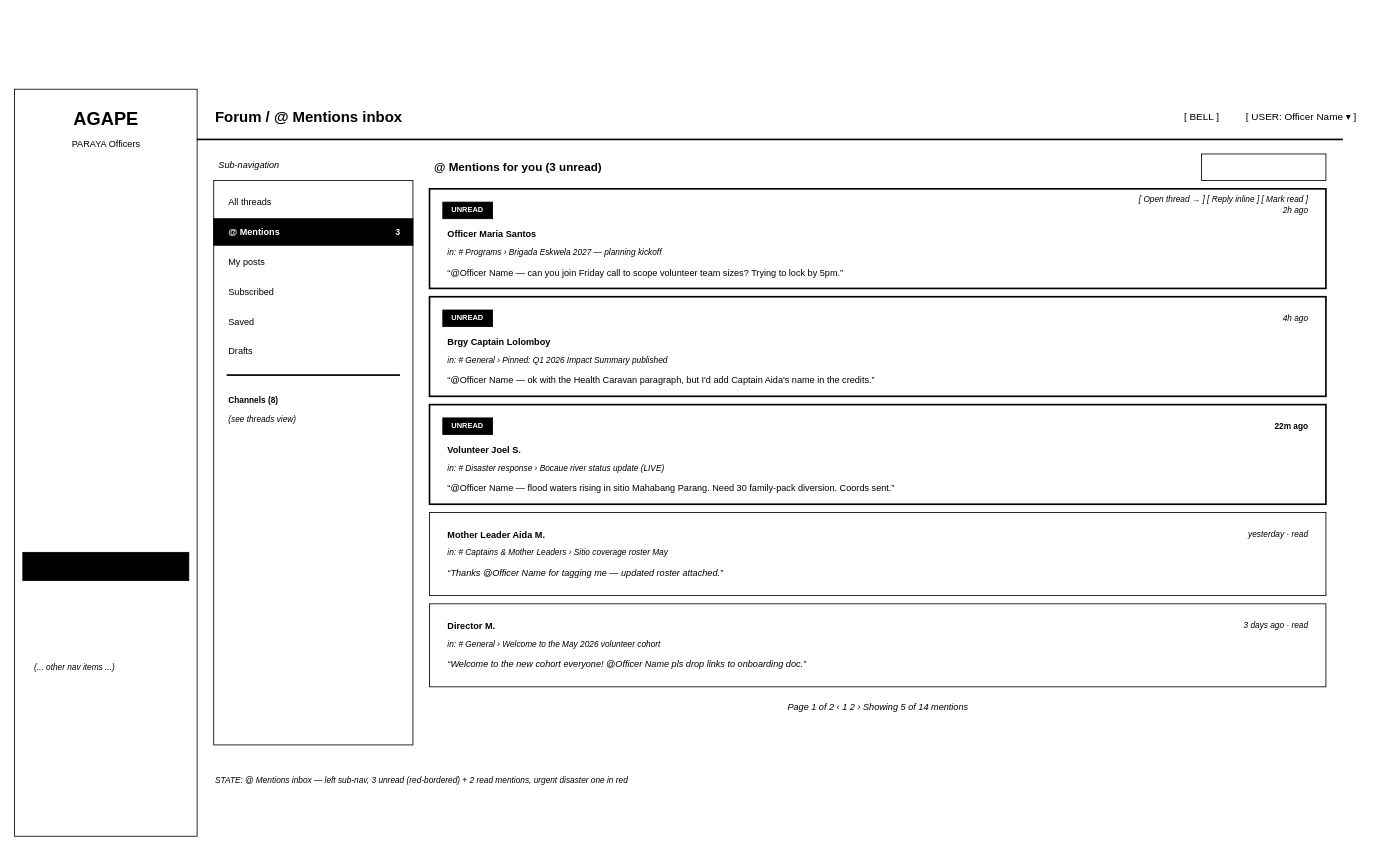
The diagram is 1390 pixels wide and 851 high, and some of its shapes have lost their labels. Here are the shapes that lost their labels. From the top down, the box of each, then its label:
(1201, 153, 1326, 181): [ Mark all read ]
(22, 552, 189, 581): [x] Forum
